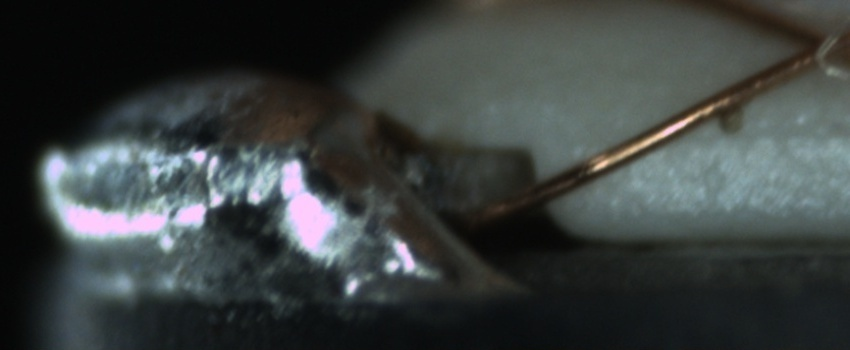CL: (773, 8, 849, 82)
DL: (688, 104, 849, 170)
